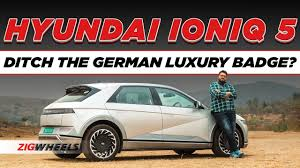Honda Ioniq: (34, 81, 255, 164)
